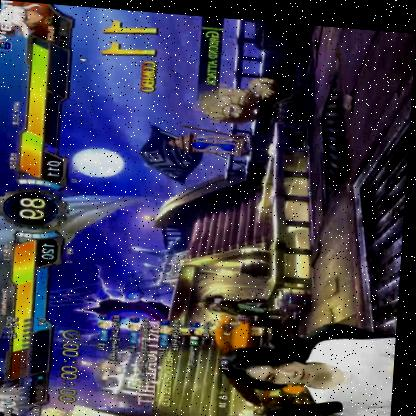streamer: (221, 319, 400, 416)
